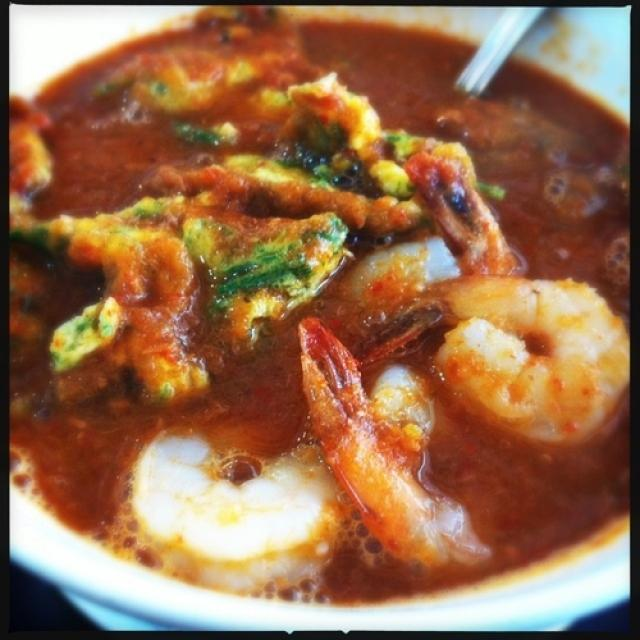汤锅炖物: (32, 23, 621, 597)
